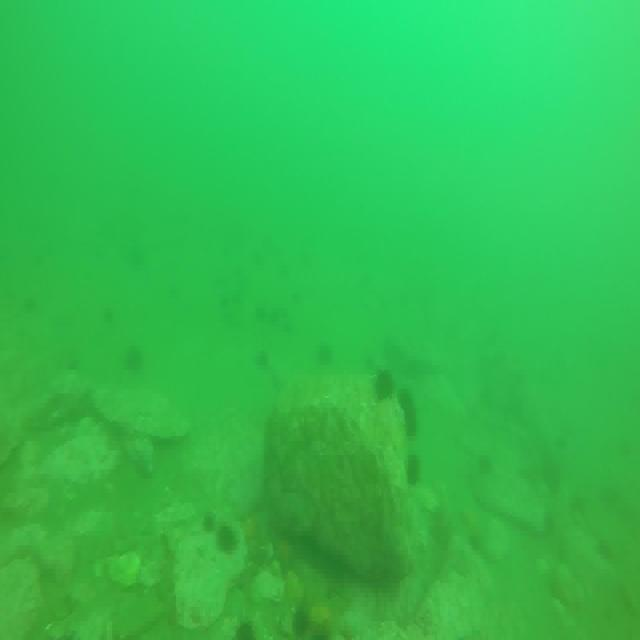echinus: (215, 522, 238, 556), (373, 368, 392, 402), (403, 453, 422, 487), (121, 347, 143, 371), (293, 607, 309, 640), (395, 386, 414, 412), (233, 621, 258, 640), (403, 405, 418, 435), (316, 344, 334, 367), (311, 623, 333, 640), (201, 514, 218, 534), (256, 349, 270, 372)
